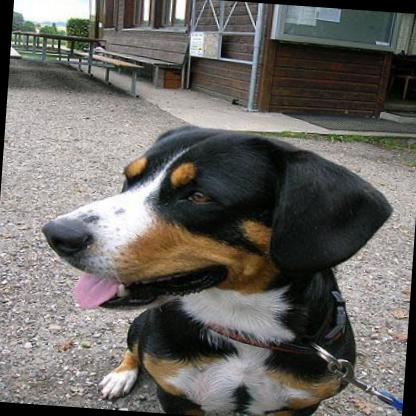EntleBucher: (30, 115, 394, 416)
